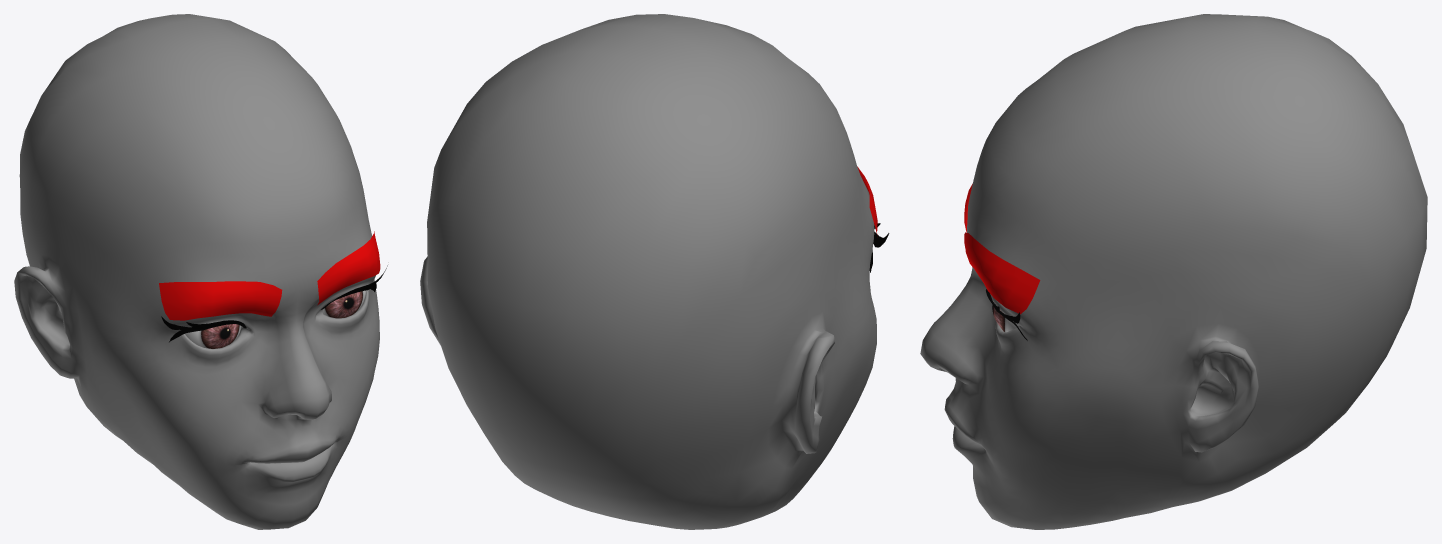
File: MyHumanHead substance painter.fbx
3 views of the same model, side by side, from view 1: azimuth 30°, elevation 25°; view 2: azimuth 150°, elevation 25°; view 3: azimuth 270°, elevation 25° (orthographic). The views are drawn at different scales.
Visible parts, largest first — view 1: MyHumanHead, EyeBrows, GEO-head_sculpting_realistic.sclera.L, Eyelashes; view 2: MyHumanHead; view 3: MyHumanHead, EyeBrows.
Boxes of the visible parts, bbox=[...] form: MyHumanHead: bbox=[14, 14, 379, 529]; EyeBrows: bbox=[159, 231, 380, 320]; GEO-head_sculpting_realistic.sclera.L: bbox=[185, 290, 366, 348]; Eyelashes: bbox=[161, 265, 387, 342]; MyHumanHead: bbox=[420, 14, 876, 529]; MyHumanHead: bbox=[920, 14, 1427, 529]; EyeBrows: bbox=[964, 184, 1040, 314].
Size of the model in its own units: 17.79 by 22.68 by 21.43.
